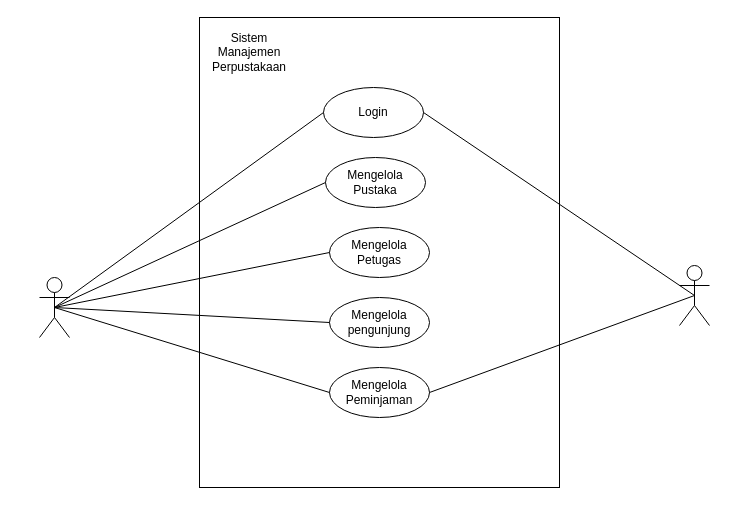
The diagram is 743 pixels wide and 505 high, and some of its shapes have lost their labels. The shapes that lost their labels are listed below. From the top down, each one's box as (x1, y1, x2, y2) in pixels, then its label:
(38, 276, 70, 338): Petugas Perpustakaan
(678, 264, 710, 326): Pengunjung
